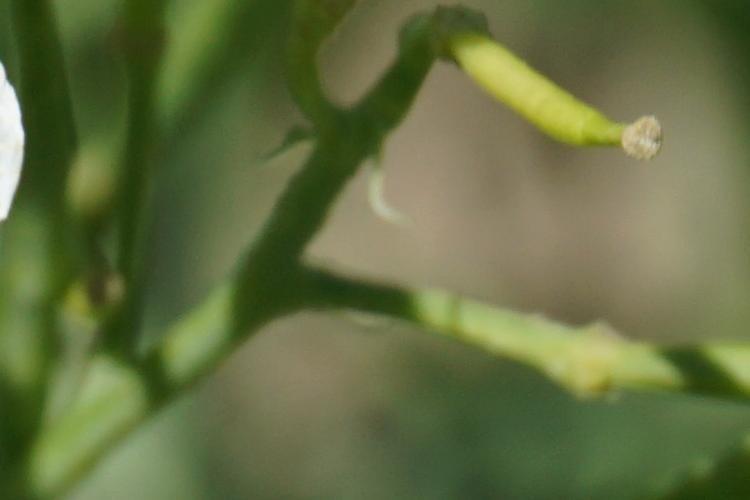pod: (425, 19, 723, 172)
